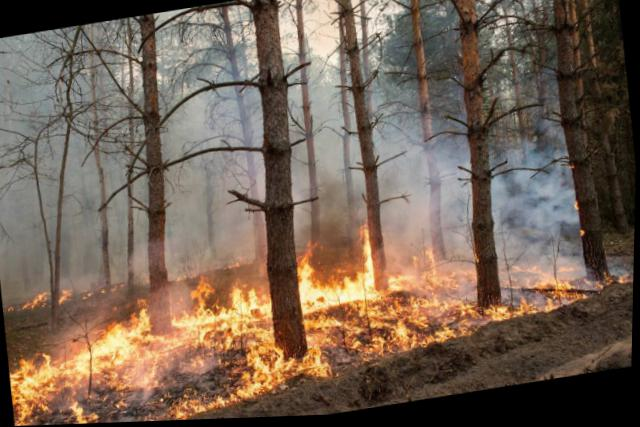fire: (1, 170, 612, 426)
